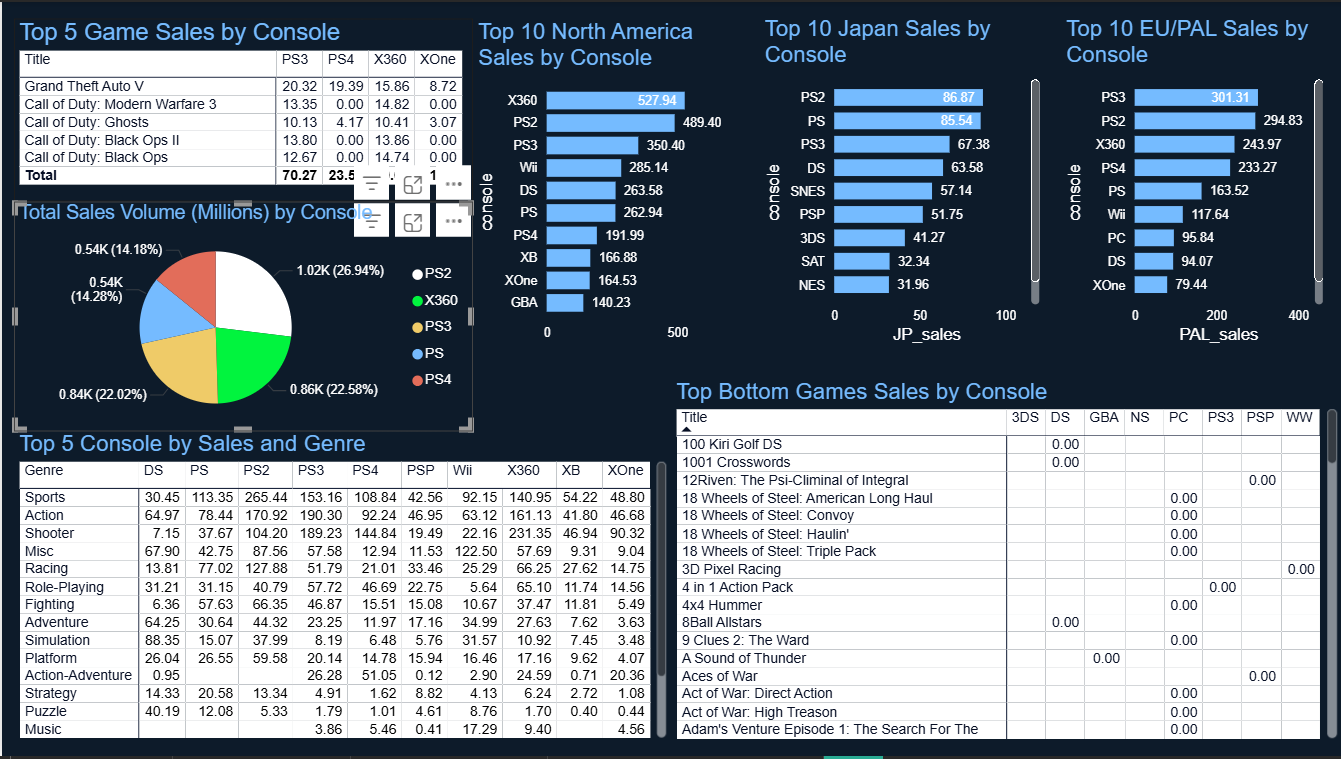

This screenshot's page, from the dashboard's own definition file:
{"tool":"powerbi","page":{"name":"Sales by Console","canvas":[1280,720],"ordinal":2},"visuals":[{"type":"clusteredBarChart","title":"Top 10 North America Sales by Console","fields":{"Category":["Dim_Console.console"],"Y":["_Measures.US_sales"]},"box":[449.8,15.1,257,315.6],"z":0},{"type":"clusteredBarChart","title":"Top 10 Japan Sales by Console","fields":{"Category":["Dim_Console.console"],"Y":["_Measures.JP_sales"]},"box":[723.8,13.2,272.1,317.5],"z":1000},{"type":"clusteredBarChart","title":"Top 10 EU/PAL Sales by Console","fields":{"Category":["Dim_Console.console"],"Y":["_Measures.EU_sales"]},"box":[1011,13.2,255.1,317.5],"z":2000},{"type":"pivotTable","title":"Top 5 Console by Sales and Genre","fields":{"Rows":["Dim_Genre.genre"],"Values":["Sum(Fact_Games.total_sales)"],"Columns":["Dim_Game.console"]},"box":[11.4,409.9,627.8,297.7],"z":3000},{"type":"pivotTable","title":"Top 5 Game Sales by Console","fields":{"Values":["_Measures.Total Sales Volume (Millions)"],"Columns":["Dim_Console.console"],"Rows":["Dim_Game.title"]},"box":[11.3,15.1,438.4,175.7],"z":4000},{"type":"pivotTable","title":"Top Bottom Games Sales by Console ","fields":{"Rows":["Dim_Game.title"],"Values":["_Measures.Total Sales Volume (Millions)"],"Columns":["Dim_Game.console"]},"box":[639.2,359.5,640.9,348.1],"z":5000},{"type":"pieChart","title":"Total Sales Volume (Millions) by Console","fields":{"Category":["Dim_Game.console"],"Y":["_Measures.Total Sales Volume (Millions)"]},"box":[11.3,190.9,438.4,219.2],"z":6000}]}

Visuals, with their boxes in screenshot pixels (x1, y1, x2, y2), scaled from the page's 1280x720 canvas onto the 1341x759 screenshot:
"Top 10 North America Sales by Console" clusteredBarChart: {"x1": 471, "y1": 16, "x2": 740, "y2": 349}
"Top 10 Japan Sales by Console" clusteredBarChart: {"x1": 758, "y1": 14, "x2": 1043, "y2": 349}
"Top 10 EU/PAL Sales by Console" clusteredBarChart: {"x1": 1059, "y1": 14, "x2": 1326, "y2": 349}
"Top 5 Console by Sales and Genre" pivotTable: {"x1": 12, "y1": 432, "x2": 670, "y2": 746}
"Top 5 Game Sales by Console" pivotTable: {"x1": 12, "y1": 16, "x2": 471, "y2": 201}
"Top Bottom Games Sales by Console " pivotTable: {"x1": 670, "y1": 379, "x2": 1340, "y2": 746}
"Total Sales Volume (Millions) by Console" pieChart: {"x1": 12, "y1": 201, "x2": 471, "y2": 432}
